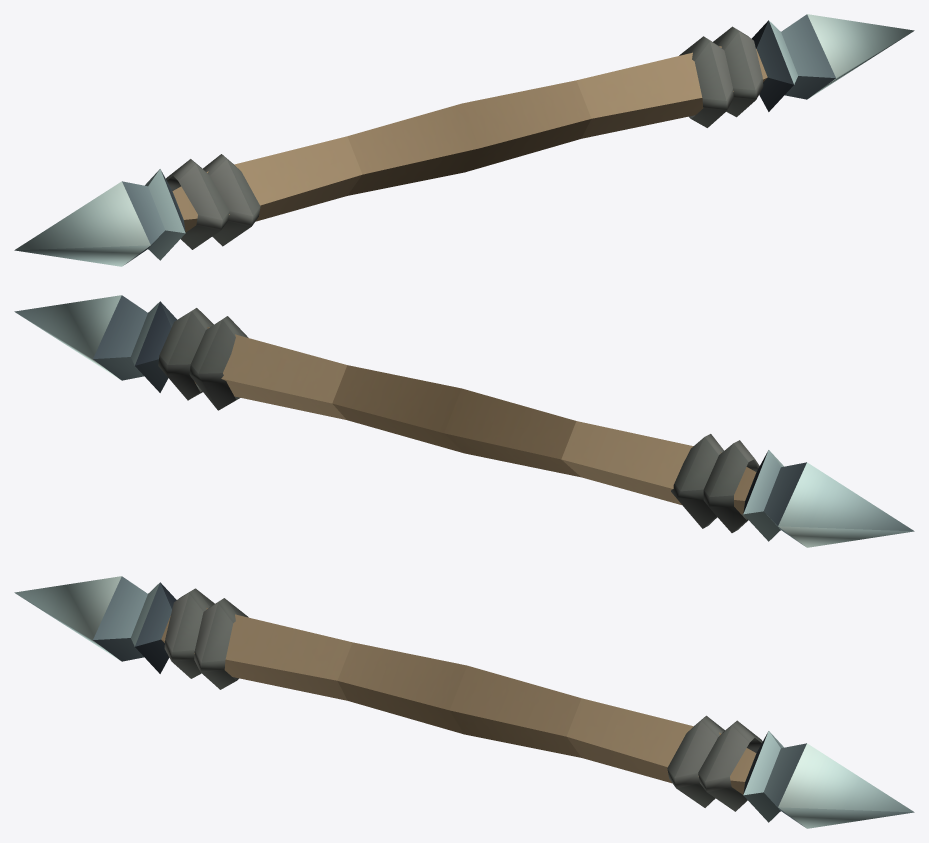
The model's file is flag_pole.fbx.
The picture shows the model from 3 angles, top to bottom: view 1: azimuth 30°, elevation 25°; view 2: azimuth 150°, elevation 25°; view 3: azimuth 330°, elevation 25°; orthographic projection.
Visible parts, largest first — view 1: flag_pole; view 2: flag_pole; view 3: flag_pole.
Part boxes in pixels (box(x1,y1,x2,y2)): flag_pole: box(14, 14, 914, 266); flag_pole: box(14, 295, 914, 547); flag_pole: box(14, 576, 914, 828).
Size of the model in its own units: 338 by 33.13 by 37.75.
